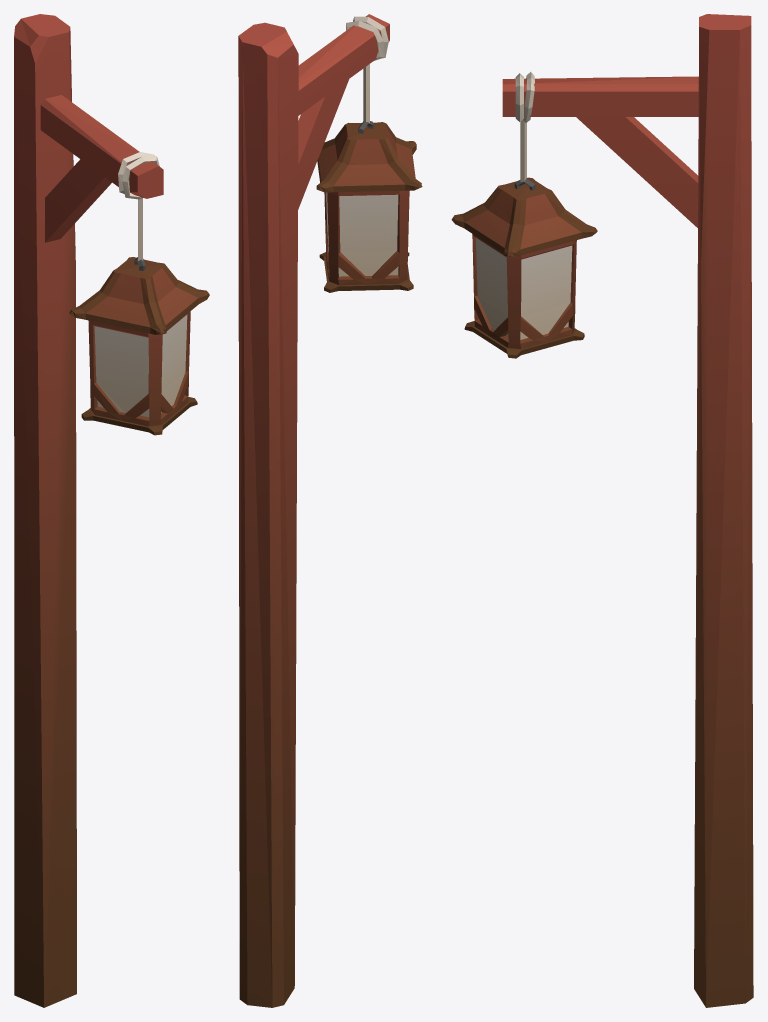
Rendered from lantern_wood.glb.
3 views of the same model, side by side, from view 1: azimuth 30°, elevation 25°; view 2: azimuth 150°, elevation 25°; view 3: azimuth 270°, elevation 25° (orthographic).
Parts seen in each view (by area): view 1: Lantern_Wood_mesh1; view 2: Lantern_Wood_mesh1; view 3: Lantern_Wood_mesh1.
Part boxes in pixels (<box>): Lantern_Wood_mesh1: <box>14,14,209,1007</box>; Lantern_Wood_mesh1: <box>238,14,422,1007</box>; Lantern_Wood_mesh1: <box>451,14,753,1007</box>.
Size of the model in its own units: 0.567 by 4.17 by 1.17.
1 material, 1 textured.
